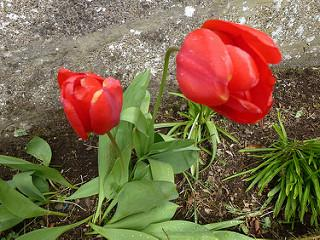tulip: (176, 22, 282, 122), (54, 68, 125, 136)
